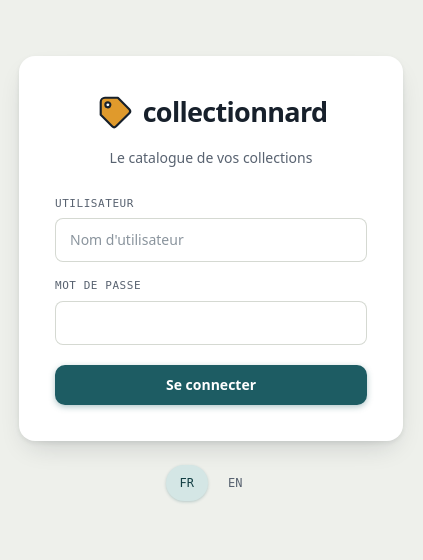
Test case: LoginView › signale un compte désactivé
In the field with placeholder "Nom d'utilisateur": [211, 240] box [70,219,352,261], type "parti"
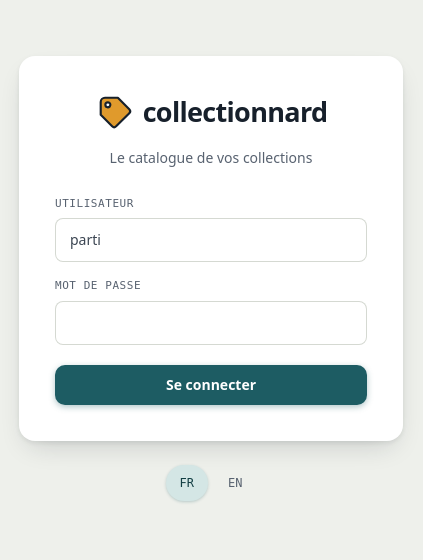
In the password field labelled "Mot de passe": [211, 322] box [70,302,352,344], type "x"
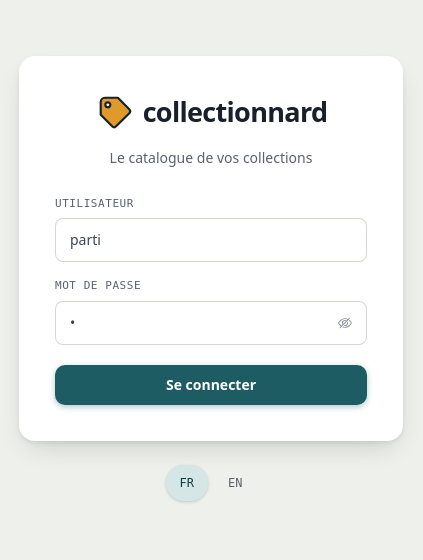
Submit the form, box [55,196,367,404]
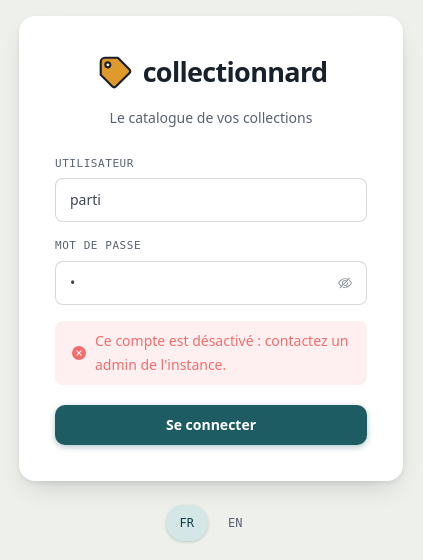
Expected: the text "Ce compte est désactivé" is shown, [95,330,348,374]
